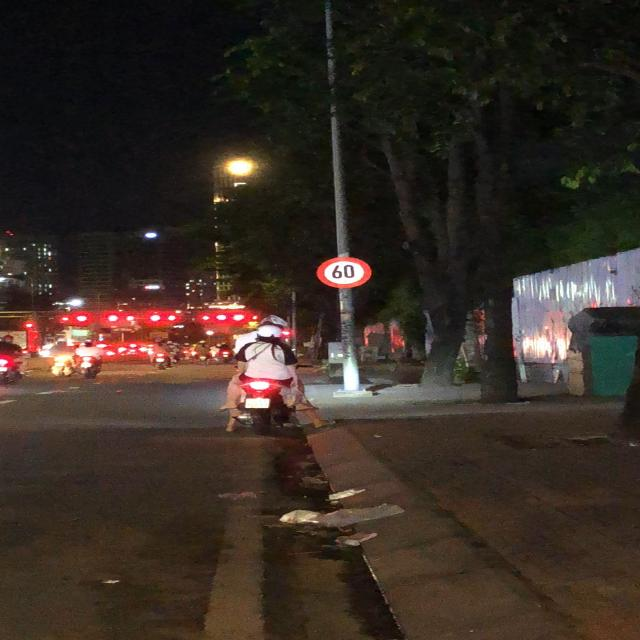Bien bao toc do toi da cho phep: (317, 253, 377, 289)
